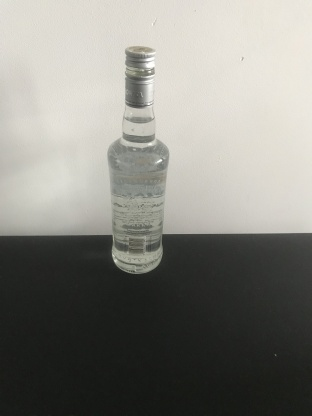nakretka: (123, 44, 157, 108)
